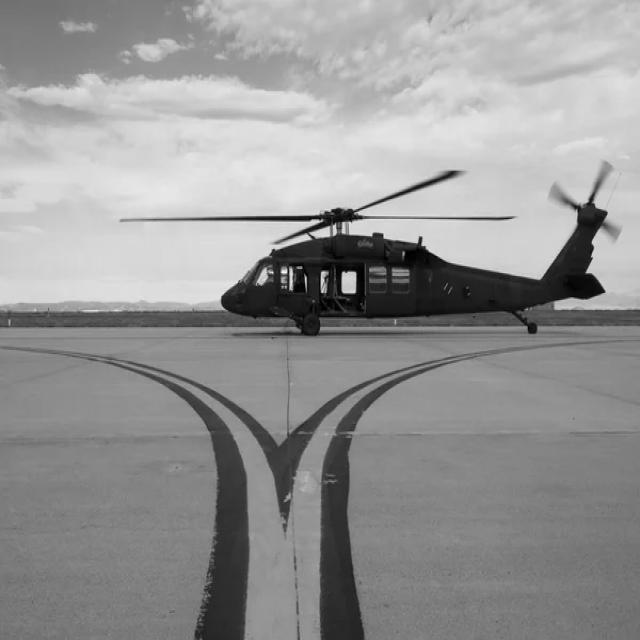Helicopter: (123, 162, 622, 335)
